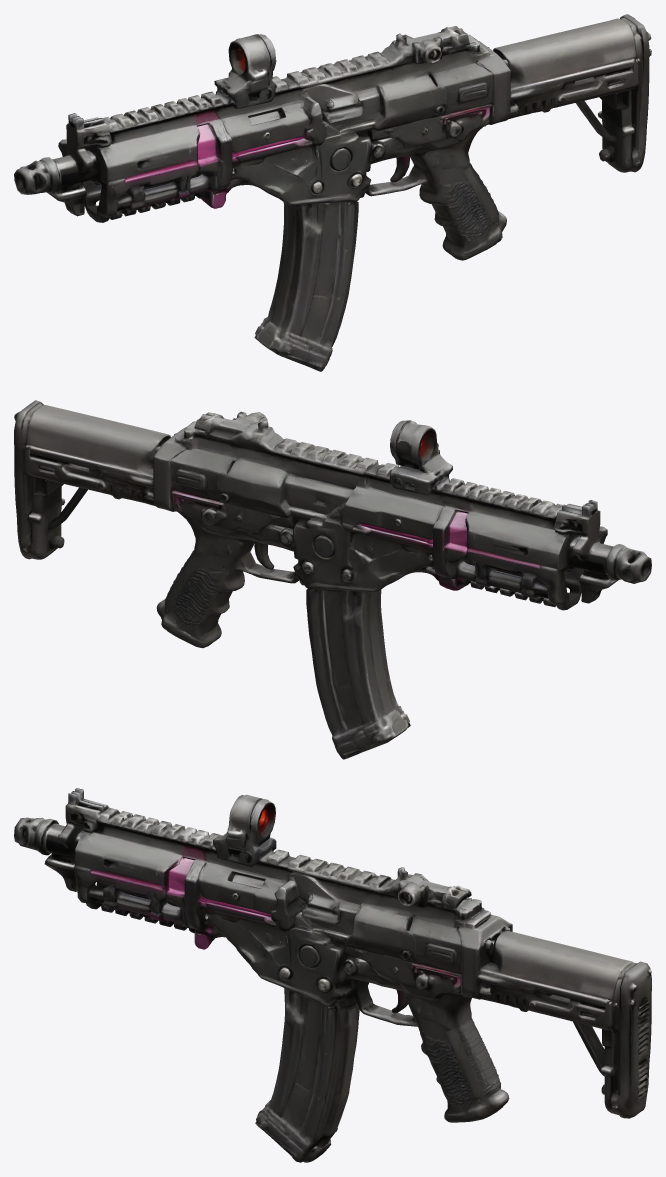
File: rn_vexor.glb
3 views of the same model, one above another, from view 1: azimuth 30°, elevation 25°; view 2: azimuth 150°, elevation 25°; view 3: azimuth 330°, elevation 25° (orthographic).
Visible parts, largest first — view 1: tripo_node_3fced450-2154-4591-ab62-f0f21f5726a2; view 2: tripo_node_3fced450-2154-4591-ab62-f0f21f5726a2; view 3: tripo_node_3fced450-2154-4591-ab62-f0f21f5726a2.
Boxes of the visible parts, <box> form: tripo_node_3fced450-2154-4591-ab62-f0f21f5726a2: <box>14,14,651,371</box>; tripo_node_3fced450-2154-4591-ab62-f0f21f5726a2: <box>14,400,651,759</box>; tripo_node_3fced450-2154-4591-ab62-f0f21f5726a2: <box>14,788,651,1162</box>.
Bounding box in the file's own units: 0.9784 × 0.514 × 0.1058.
1 material, 1 textured.
